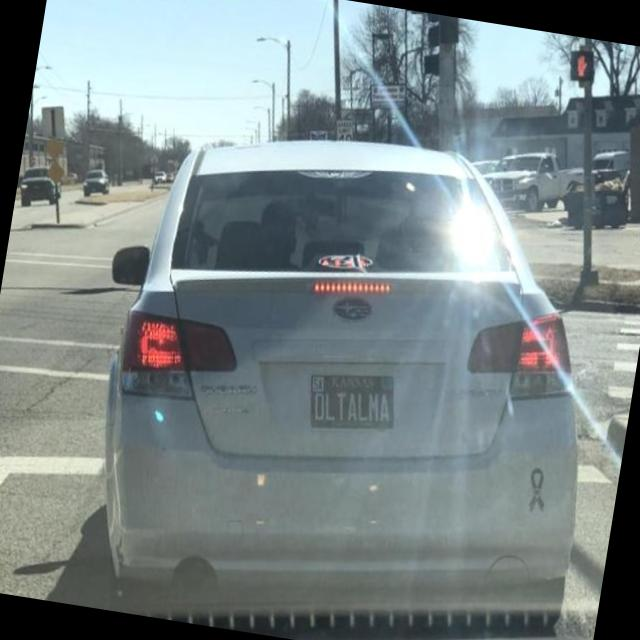LicensePlate: (309, 372, 395, 431)
